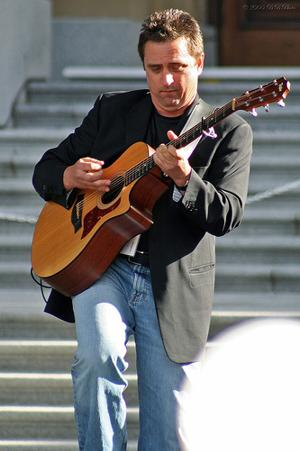person: (32, 9, 253, 450)
